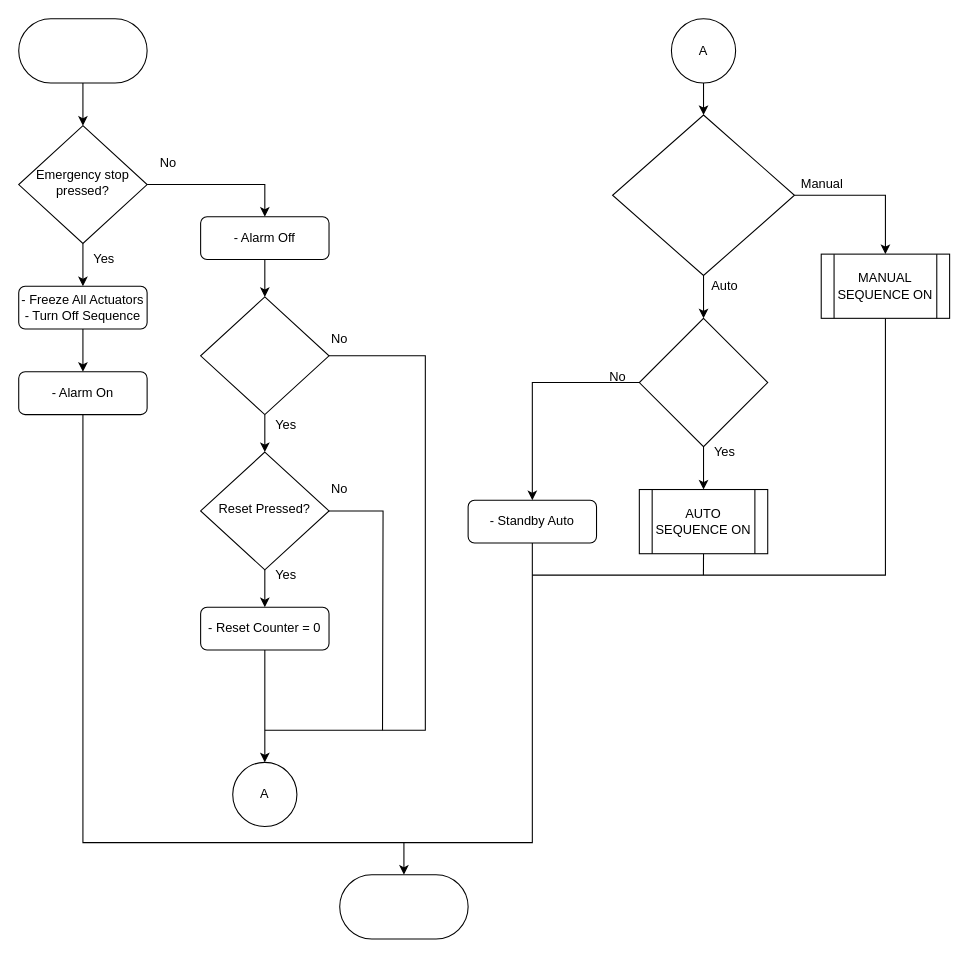
The diagram is 968 pixels wide and 958 high, and some of its shapes have lost their labels. The box of each missing label's shape, as (x1, y1, x2, y2) in pixels:
END: (339, 874, 468, 939)
Is the machine in the STOP state?: (200, 296, 329, 415)
Selector Mode: AUTO or MANUAL?: (612, 114, 794, 276)
START: (18, 18, 147, 83)
Start Pressed? or Running Mode?: (638, 317, 768, 447)
